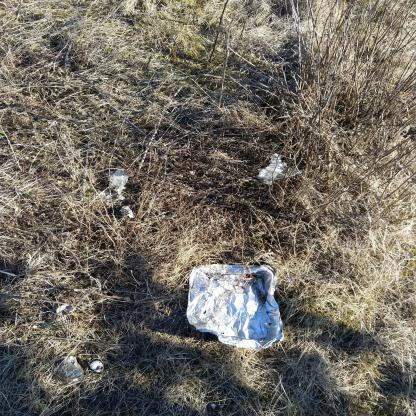metal: (187, 265, 287, 350)
